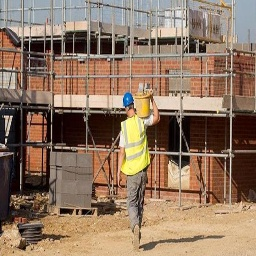helmet: (122, 91, 136, 113)
person: (116, 93, 155, 244)
vest: (119, 116, 153, 178)
